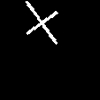single_crochet: (26, 1, 57, 43)
